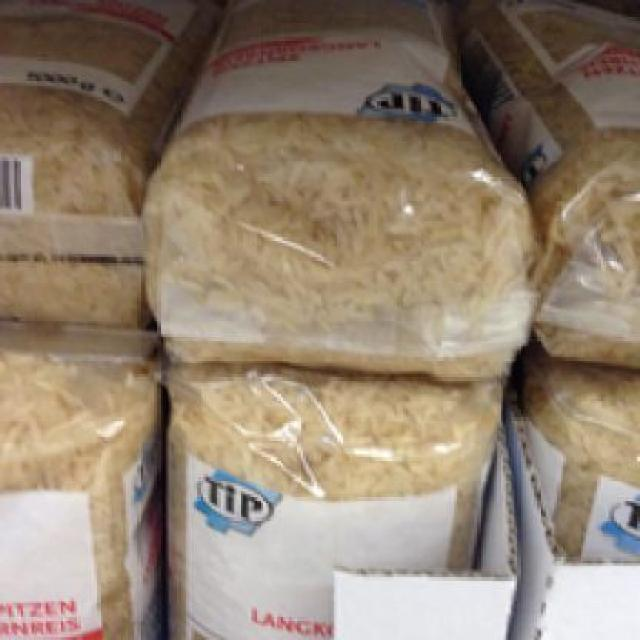Rice: (144, 0, 535, 375), (150, 343, 507, 637), (457, 0, 637, 363), (0, 0, 200, 320), (0, 328, 163, 634)
